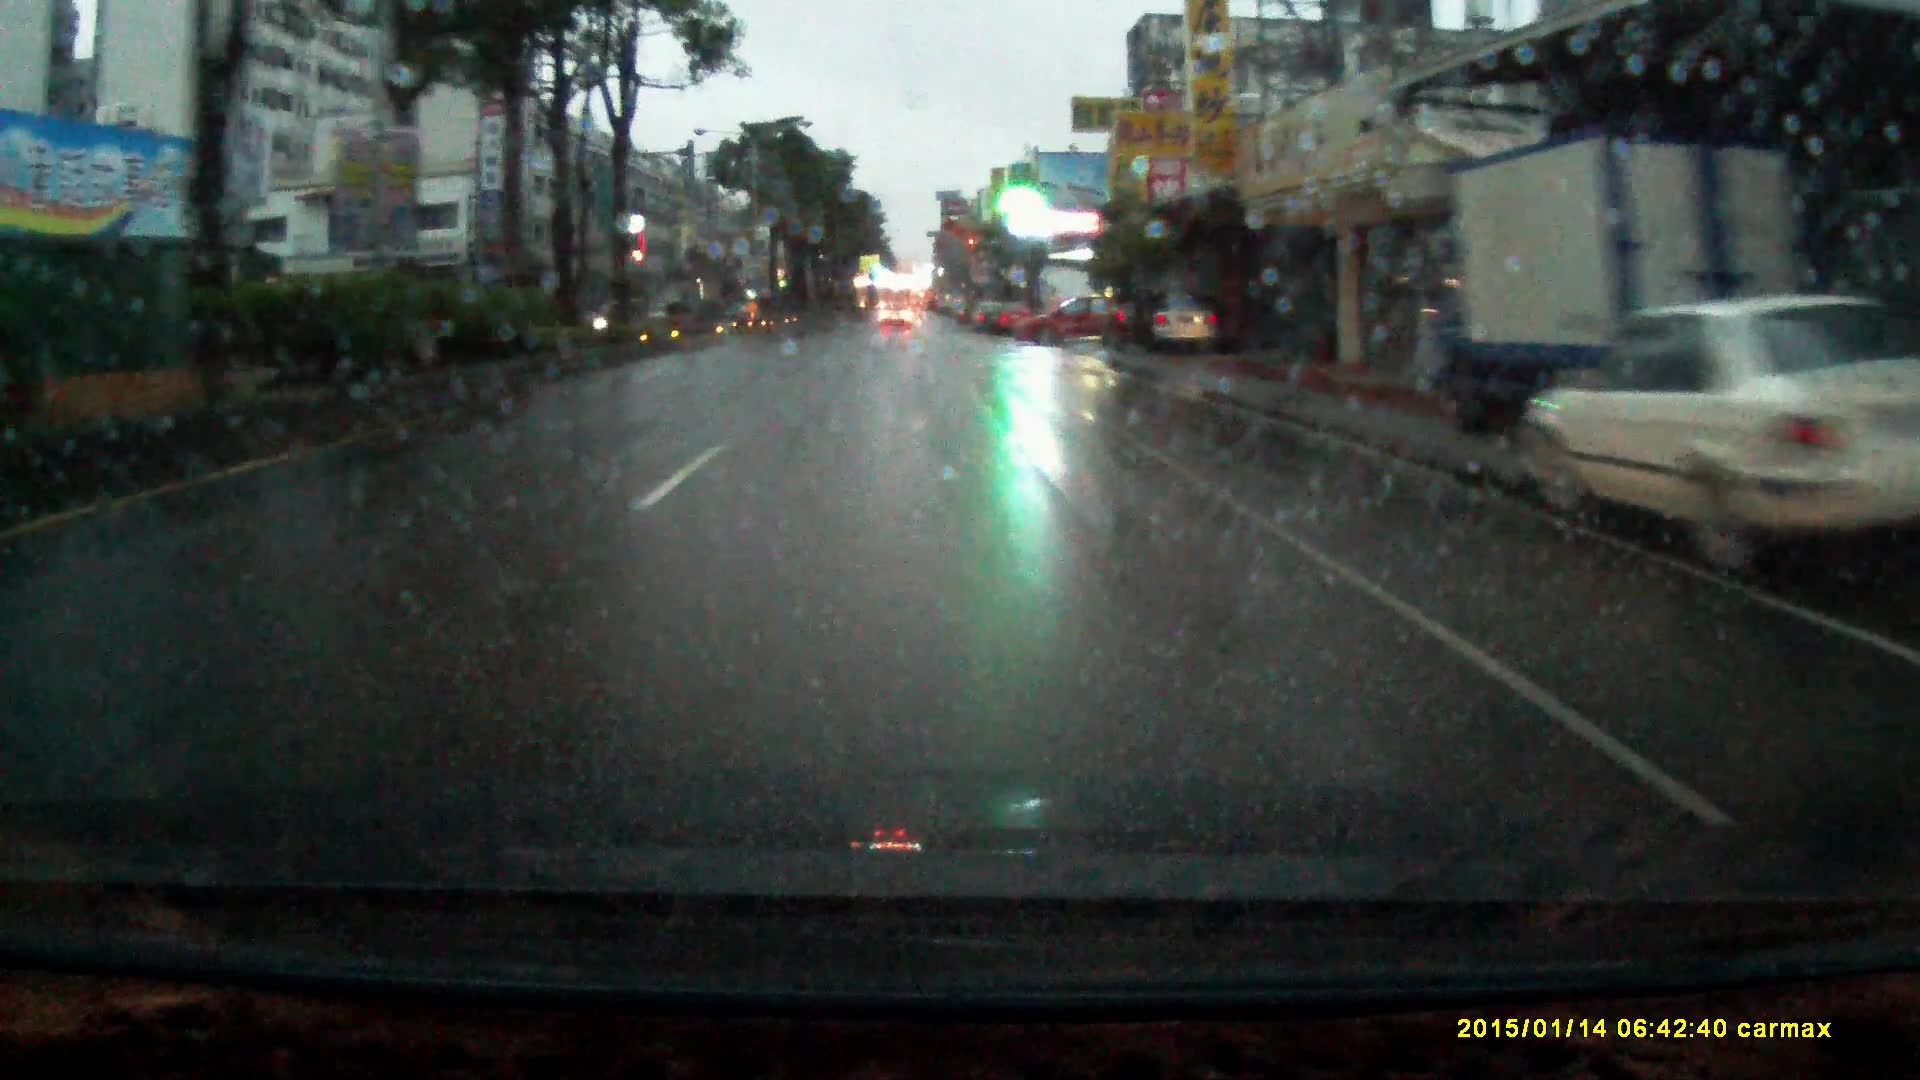vehicle: (1414, 108, 1791, 430), (1524, 298, 1920, 597), (1014, 291, 1127, 345), (1139, 291, 1222, 349), (1098, 293, 1166, 349), (993, 298, 1035, 334), (881, 305, 913, 334)
